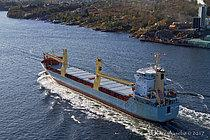Ship: (37, 40, 184, 128)
